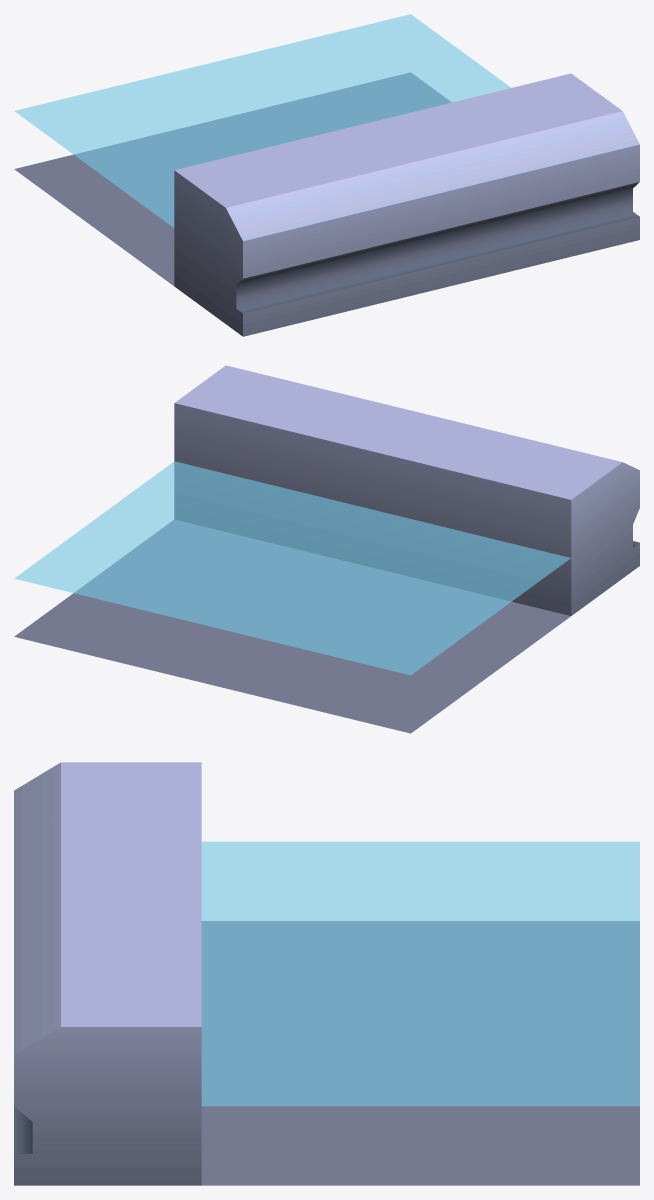
Rendered from fountain-edge.glb.
3 views of the same model, one above another, from view 1: azimuth 30°, elevation 25°; view 2: azimuth 150°, elevation 25°; view 3: azimuth 270°, elevation 25° (orthographic). The views are drawn at different scales.
Parts seen in each view (by area): view 1: fountain-edge, (_ignore); view 2: fountain-edge, (_ignore); view 3: fountain-edge, (_ignore).
Part boxes in pixels (x1=…): fountain-edge: x1=14, y1=72, x2=639, y2=336; (_ignore): x1=14, y1=14, x2=510, y2=227; fountain-edge: x1=14, y1=365, x2=639, y2=733; (_ignore): x1=14, y1=461, x2=570, y2=675; fountain-edge: x1=14, y1=762, x2=639, y2=1185; (_ignore): x1=201, y1=841, x2=639, y2=1106.
Bounding box in the file's own units: 1 × 0.28 × 1.
2 materials, 1 textured.
